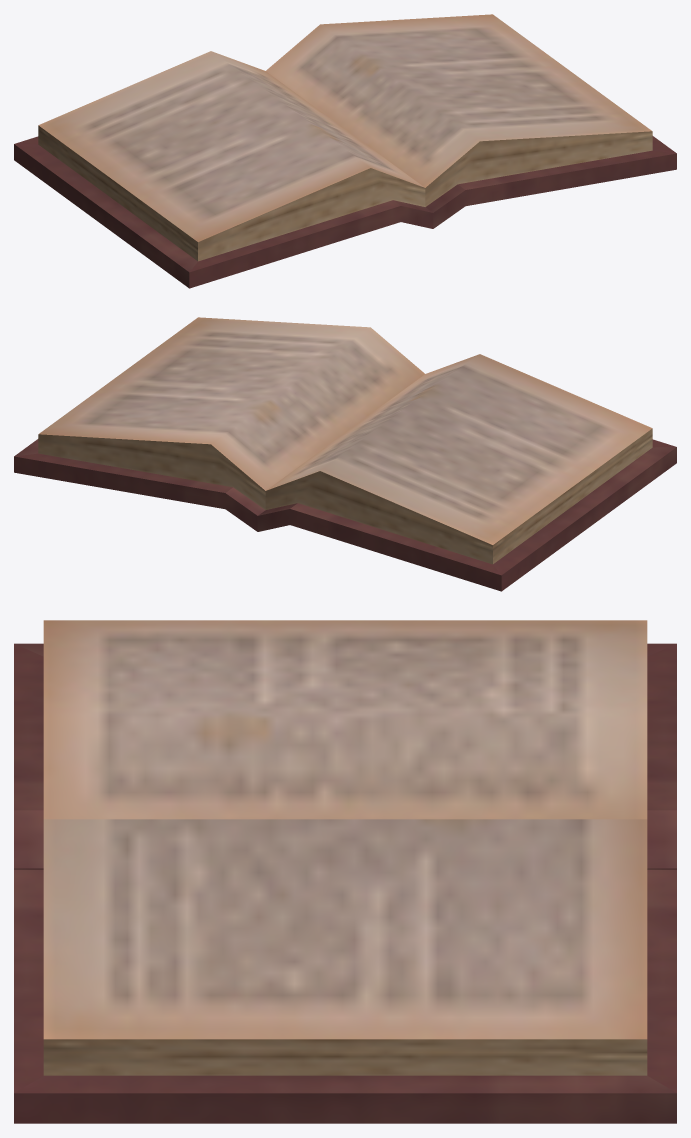
File: Book_E.fbx
The picture shows the model from 3 angles, top to bottom: view 1: azimuth 30°, elevation 25°; view 2: azimuth 150°, elevation 25°; view 3: azimuth 270°, elevation 25°; orthographic projection. The views are drawn at different scales.
Parts seen in each view (by area): view 1: Book_E; view 2: Book_E; view 3: Book_E.
Boxes of the visible parts, <box> form: Book_E: <box>14,14,676,288</box>; Book_E: <box>14,317,676,591</box>; Book_E: <box>14,620,676,1123</box>.
Size of the model in its own units: 0.1561 by 0.021 by 0.0973.
